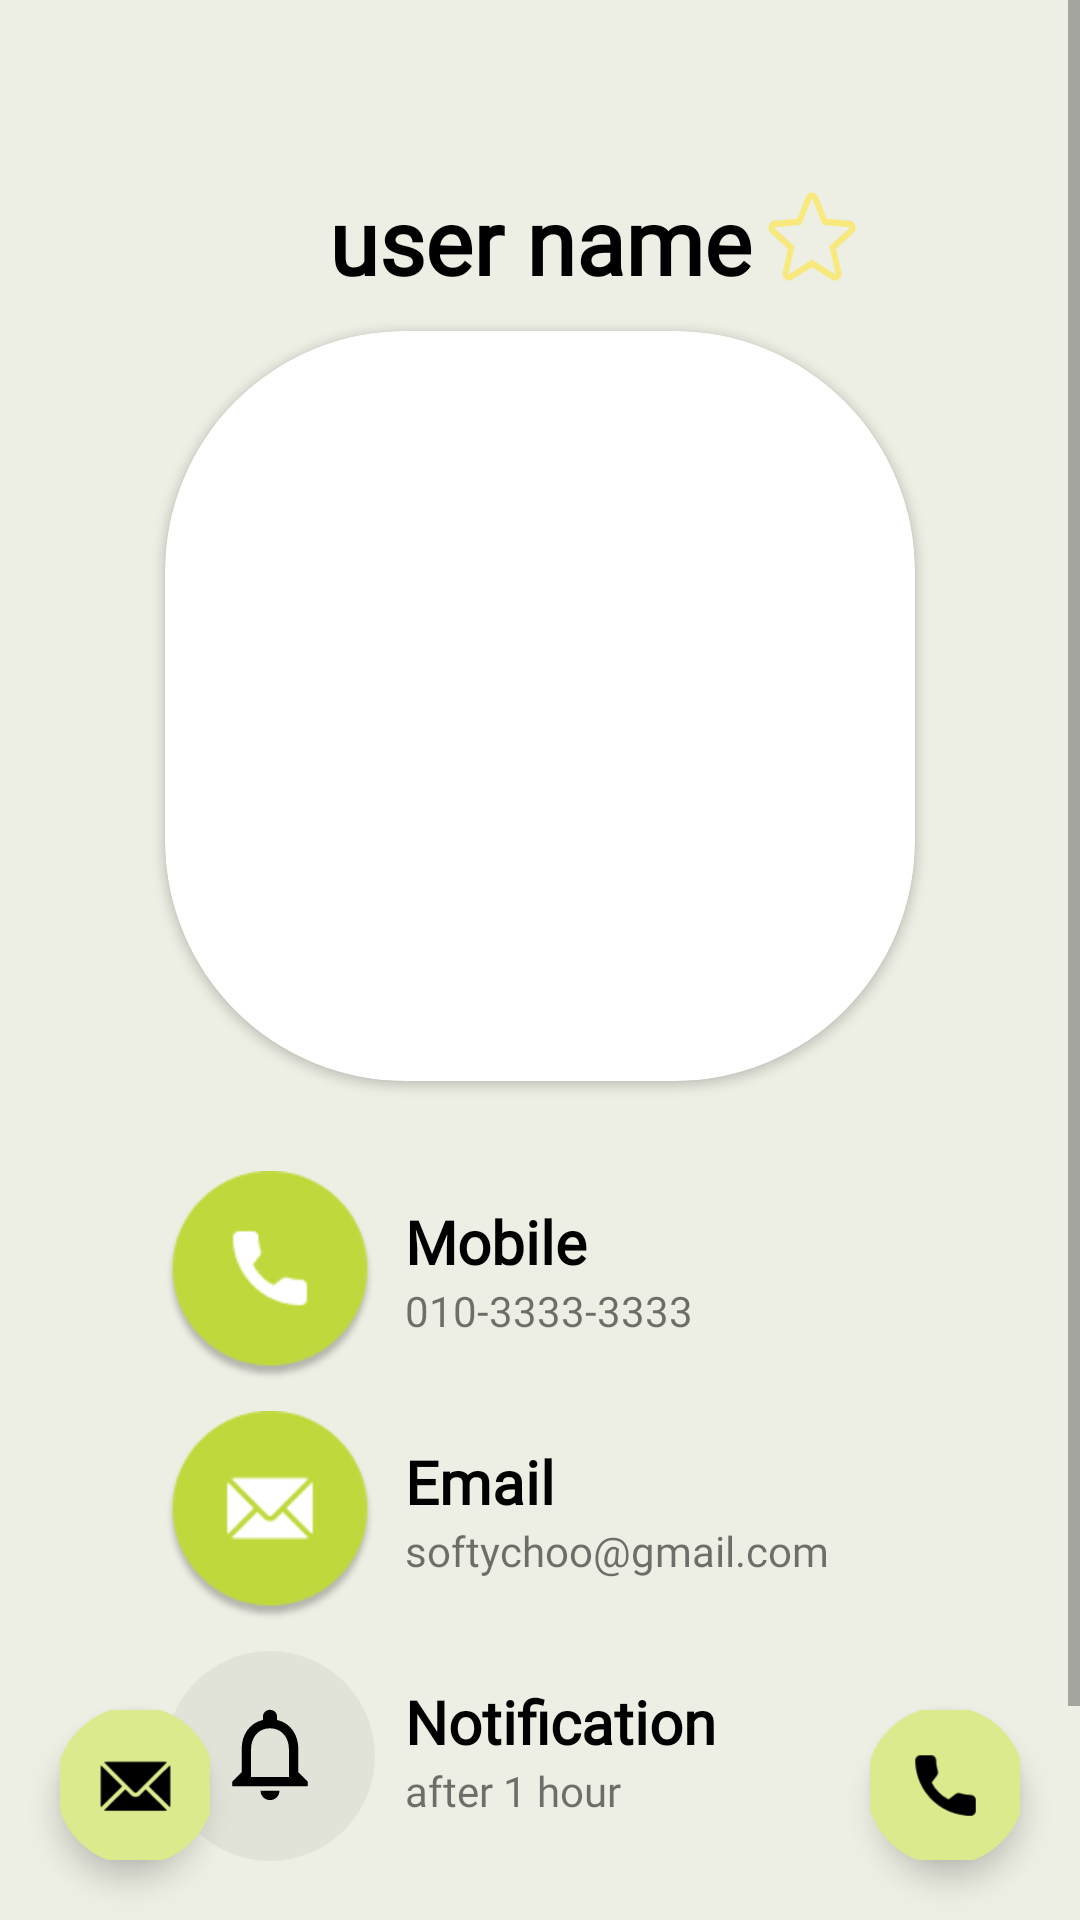

Locate icon controls on the screen. Image size 1080×1920, boxes as (x1, y1, x2, y2).
call: (172, 1171, 368, 1374), (870, 1710, 1020, 1860)
message: (172, 1411, 368, 1614), (60, 1710, 210, 1860)
unclicked bookmark: (768, 192, 856, 281)
